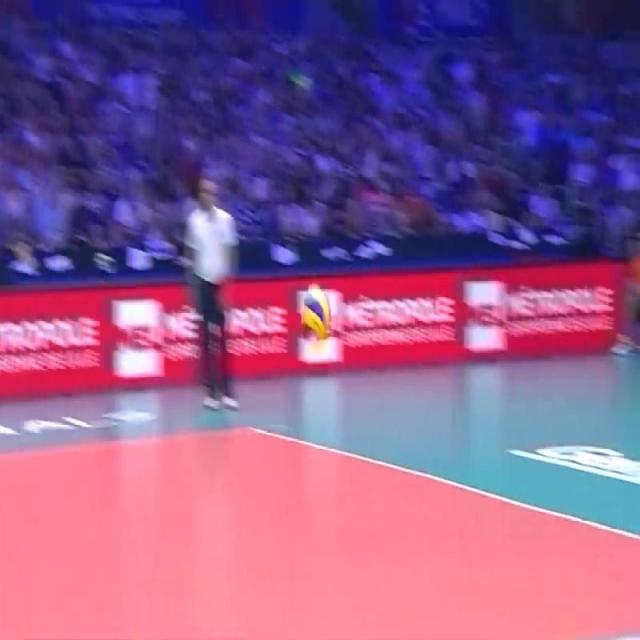volleyball: (300, 286, 330, 341)
